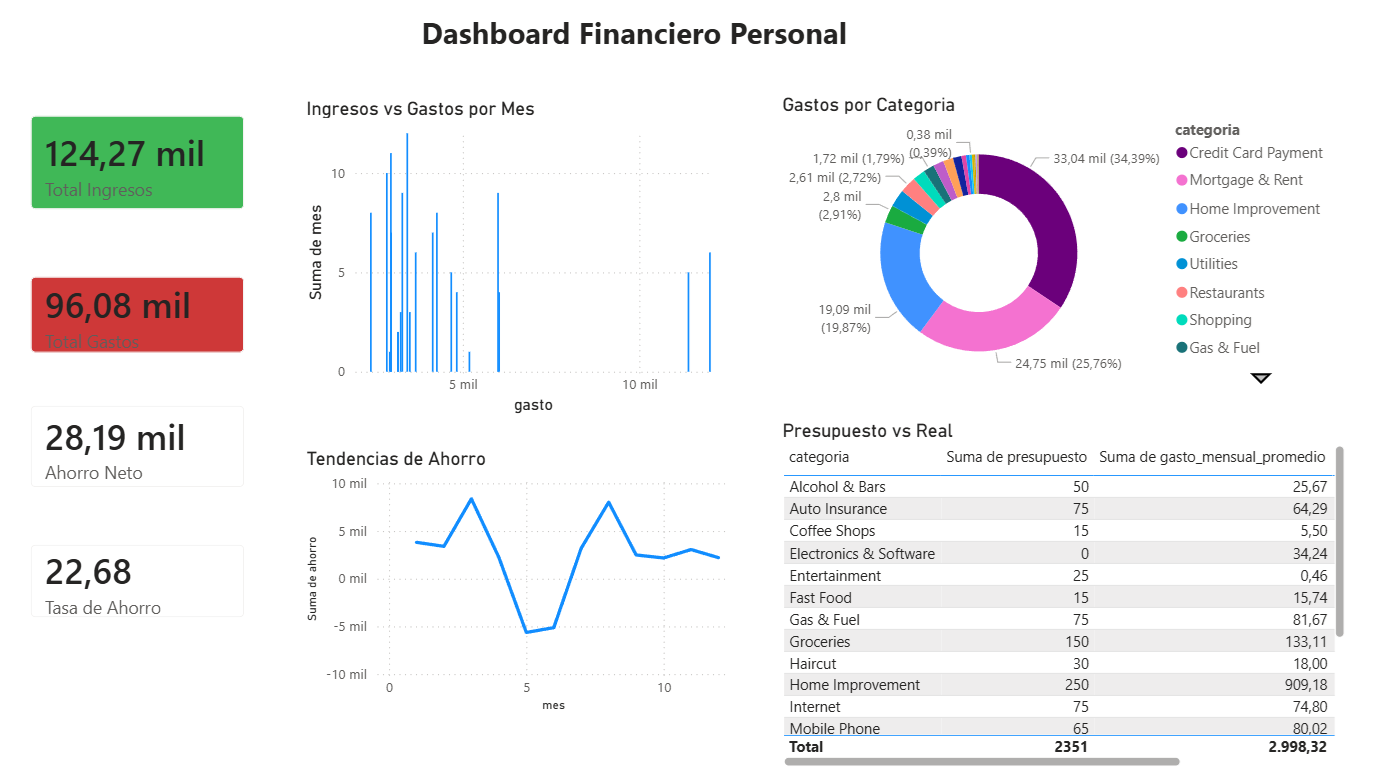

The page's visual inventory and layout, read from the dashboard file:
{"tool":"powerbi","page":{"name":"Página 1","canvas":[1280,720],"ordinal":0},"visuals":[{"type":"cardVisual","fields":{"Data":["transacciones.Total Ingresos"]},"box":[16.4,91.8,228.2,119.1],"z":0},{"type":"cardVisual","fields":{"Data":["transacciones.Total Gastos"]},"box":[16.4,238.2,228.2,103.6],"z":1000},{"type":"cardVisual","fields":{"Data":["transacciones.Ahorro Neto"]},"box":[16.4,355.5,228.2,108.2],"z":2000},{"type":"cardVisual","fields":{"Data":["transacciones.Tasa de Ahorro"]},"box":[16.4,481.8,228.2,100.9],"z":3000},{"type":"clusteredColumnChart","title":"Ingresos vs Gastos por Mes","fields":{"Category":["resumen_mensual.gasto","resumen_mensual.ingreso"],"Y":["Sum(resumen_mensual.mes)"]},"box":[279.1,91.8,394.5,292.7],"z":3001},{"type":"donutChart","title":"Gastos por Categoria","fields":{"Category":["gastos_categoria.categoria"],"Y":["Sum(gastos_categoria.total)"]},"box":[711.8,88.2,520.9,271.8],"z":3002},{"type":"lineChart","title":"Tendencias de Ahorro","fields":{"Category":["resumen_mensual.mes"],"Y":["Sum(resumen_mensual.ahorro)"]},"box":[279.1,410,394.5,245.5],"z":3003},{"type":"tableEx","title":"Presupuesto vs Real","fields":{"Values":["comparacion_presupuesto.categoria","Sum(comparacion_presupuesto.presupuesto)","Sum(comparacion_presupuesto.gasto_mensual_promedio)","Sum(comparacion_presupuesto.diferencia)","comparacion_presupuesto.estado"]},"box":[711.8,384.5,520.9,320.9],"z":3004},{"type":"textbox","box":[383.6,10,410.9,49.1],"z":3005}]}

Visuals, with their boxes in screenshot pixels (x1, y1, x2, y2), scaled from the page's 1280x720 canvas onto the 1379x778 screenshot:
cardVisual - transacciones.Total Ingresos: [18,99,264,228]
cardVisual - transacciones.Total Gastos: [18,257,264,369]
cardVisual - transacciones.Ahorro Neto: [18,384,264,501]
cardVisual - transacciones.Tasa de Ahorro: [18,521,264,630]
"Ingresos vs Gastos por Mes" clusteredColumnChart: [301,99,726,415]
"Gastos por Categoria" donutChart: [767,95,1328,389]
"Tendencias de Ahorro" lineChart: [301,443,726,708]
"Presupuesto vs Real" tableEx: [767,415,1328,762]
textbox: [413,11,856,64]
